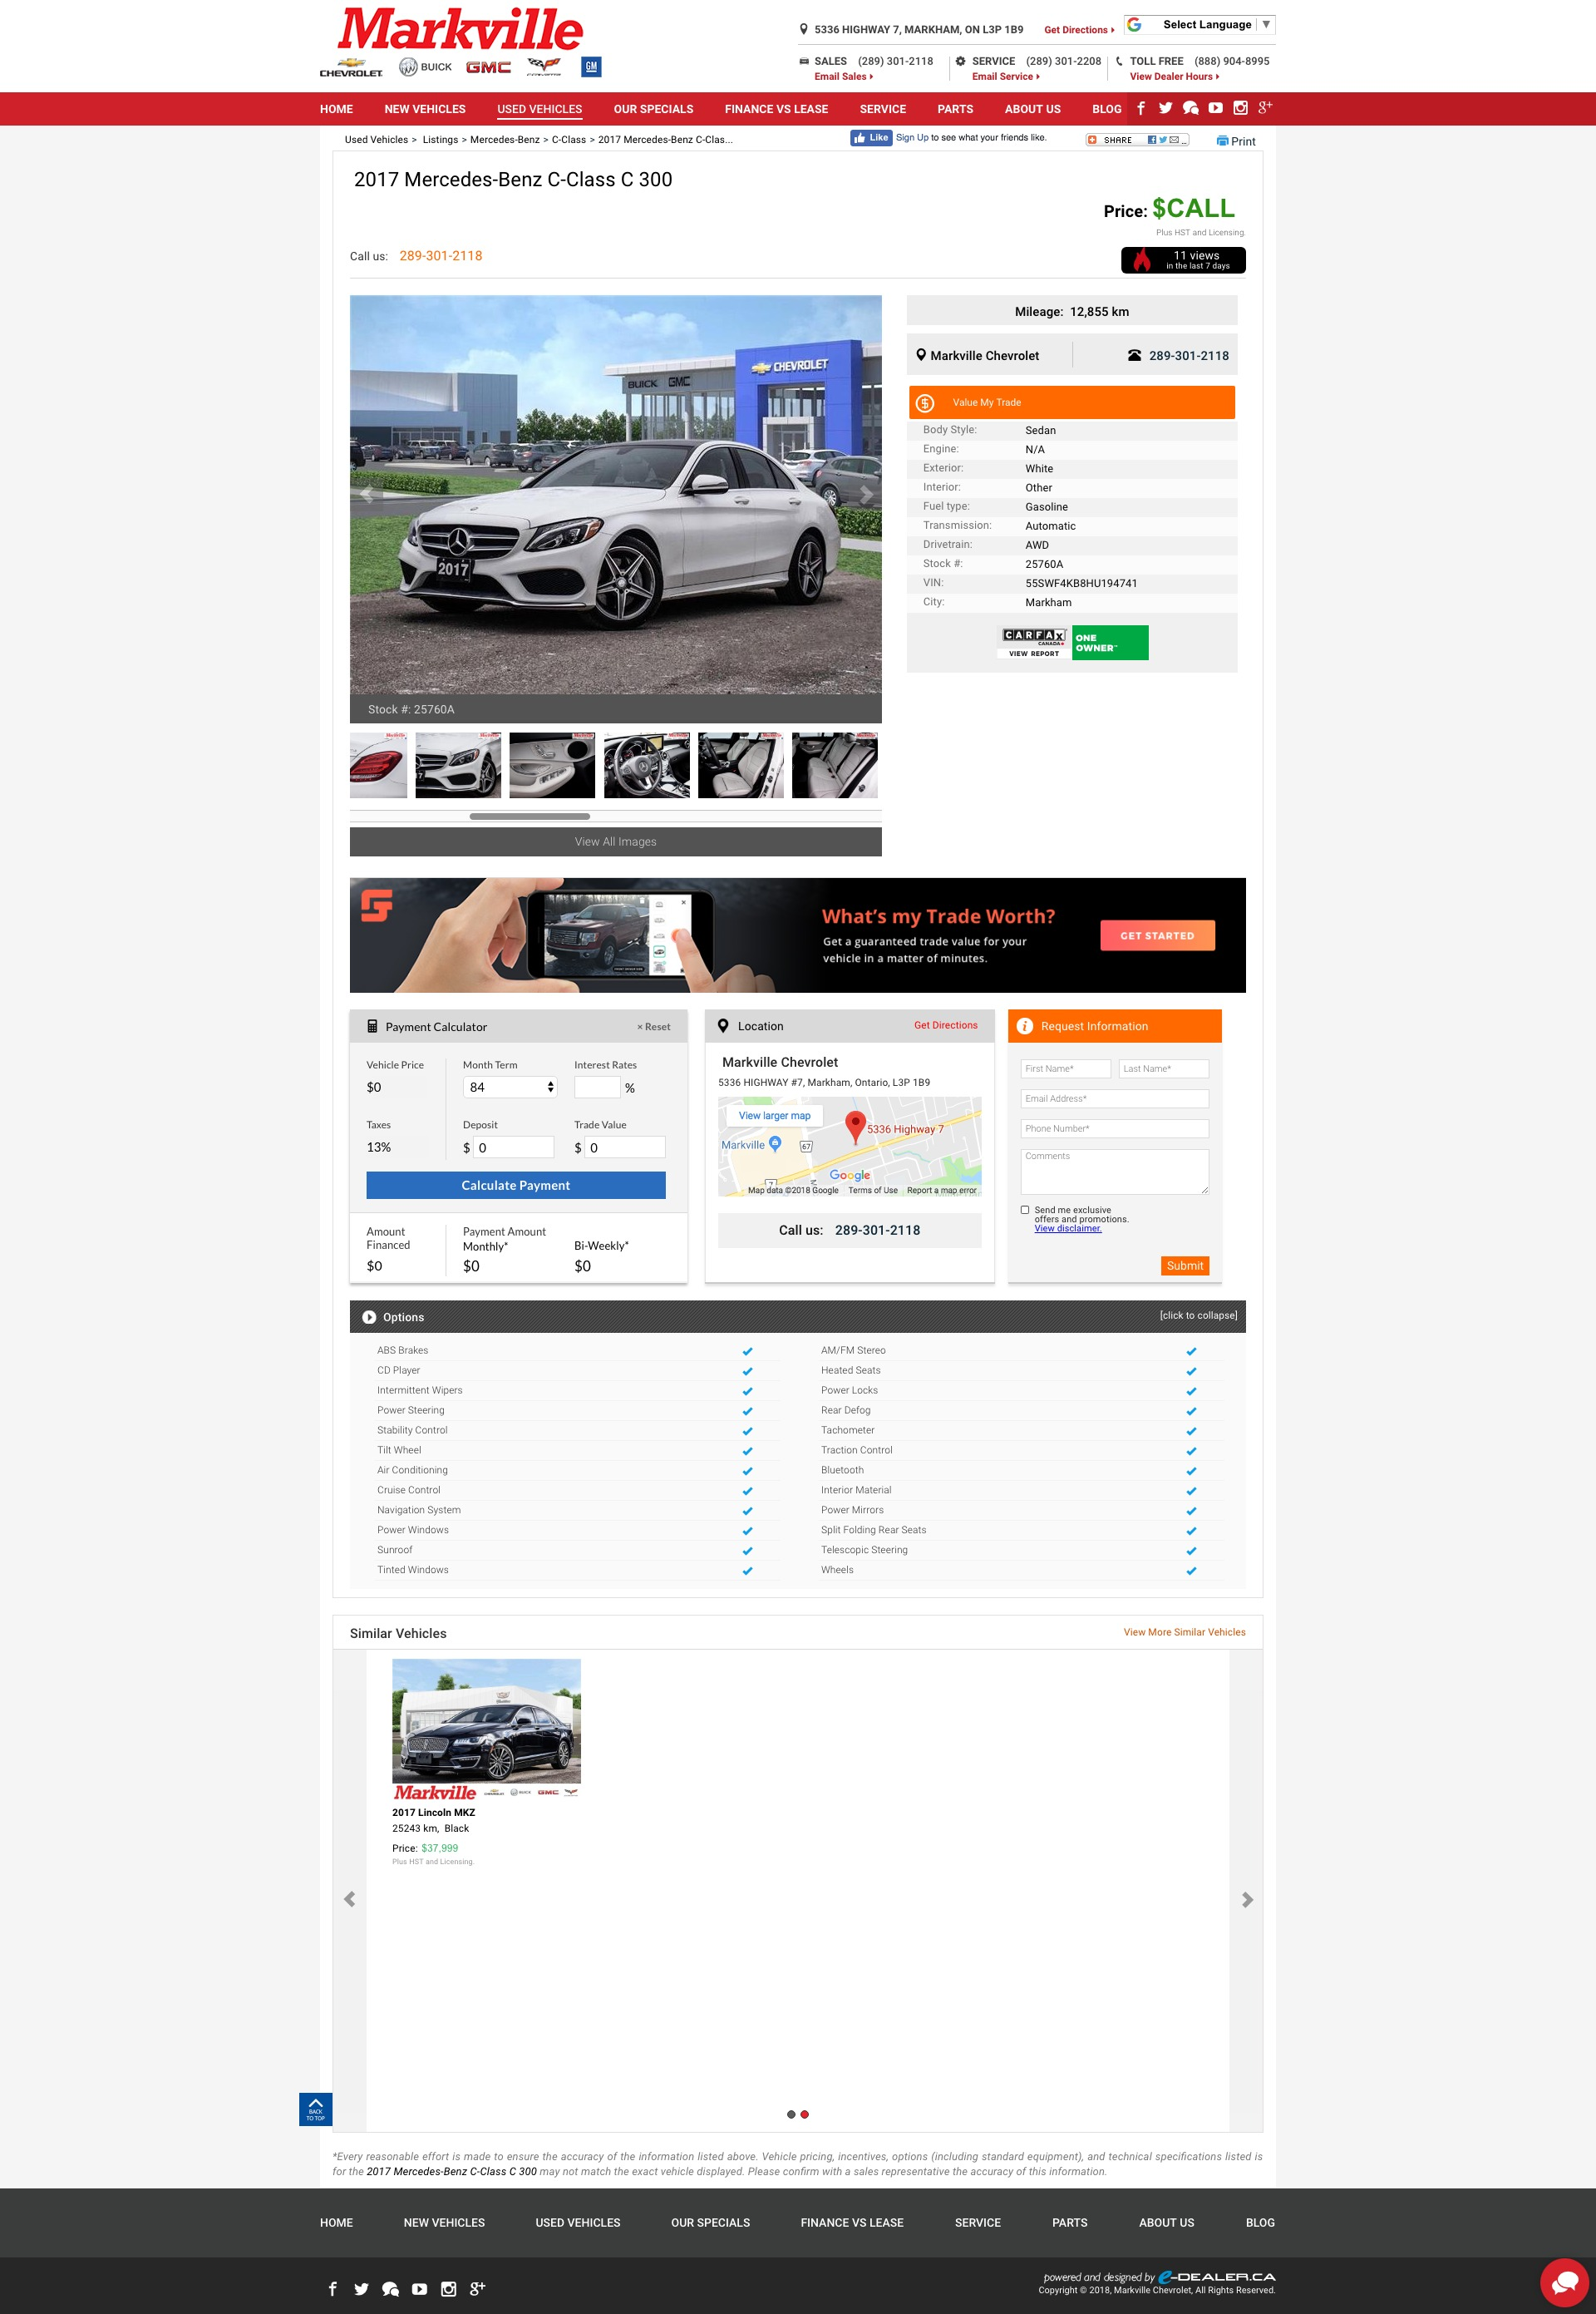car: (860, 485, 874, 506)
